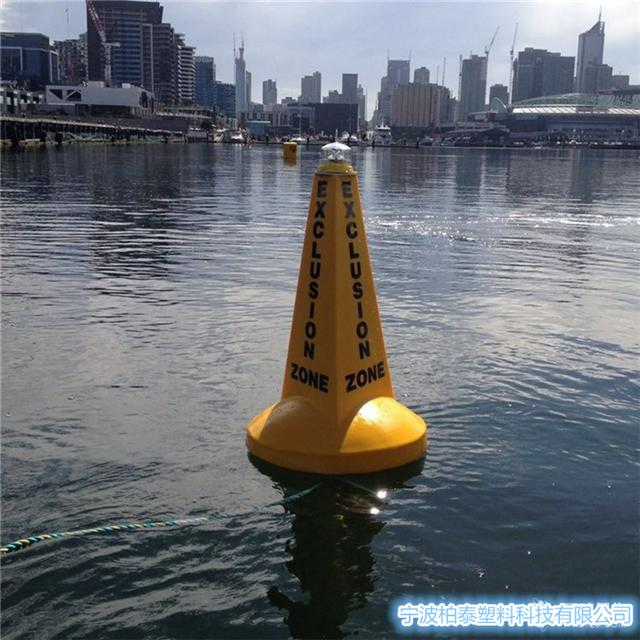buoy: (245, 142, 433, 477)
